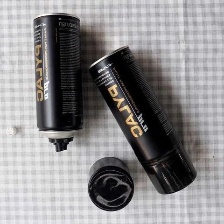aerosol_cans: (83, 40, 201, 200), (28, 10, 87, 155)
